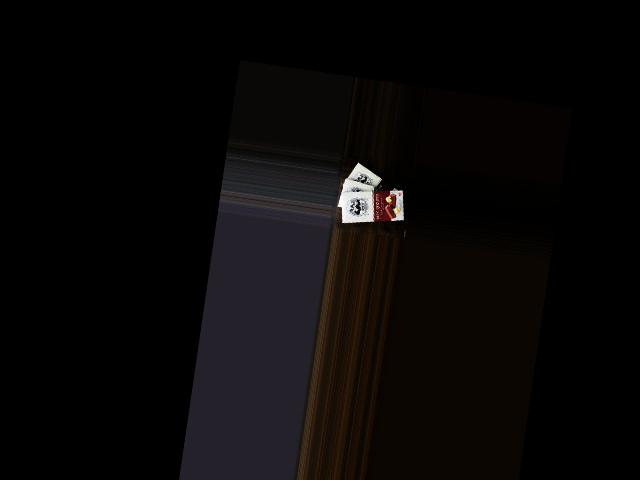chocolate: (338, 159, 410, 211)
